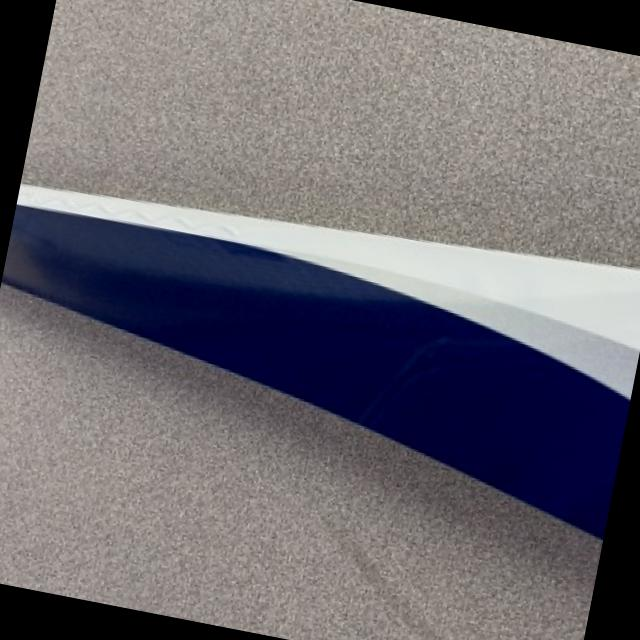healthy: (2, 181, 640, 536)
